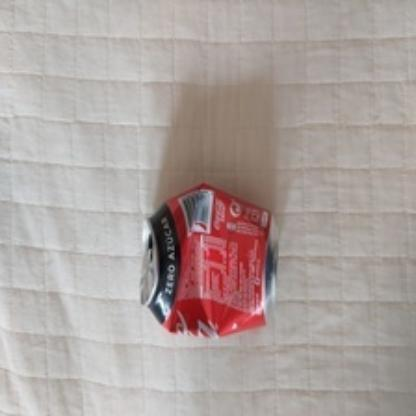Can: (138, 184, 276, 340)
